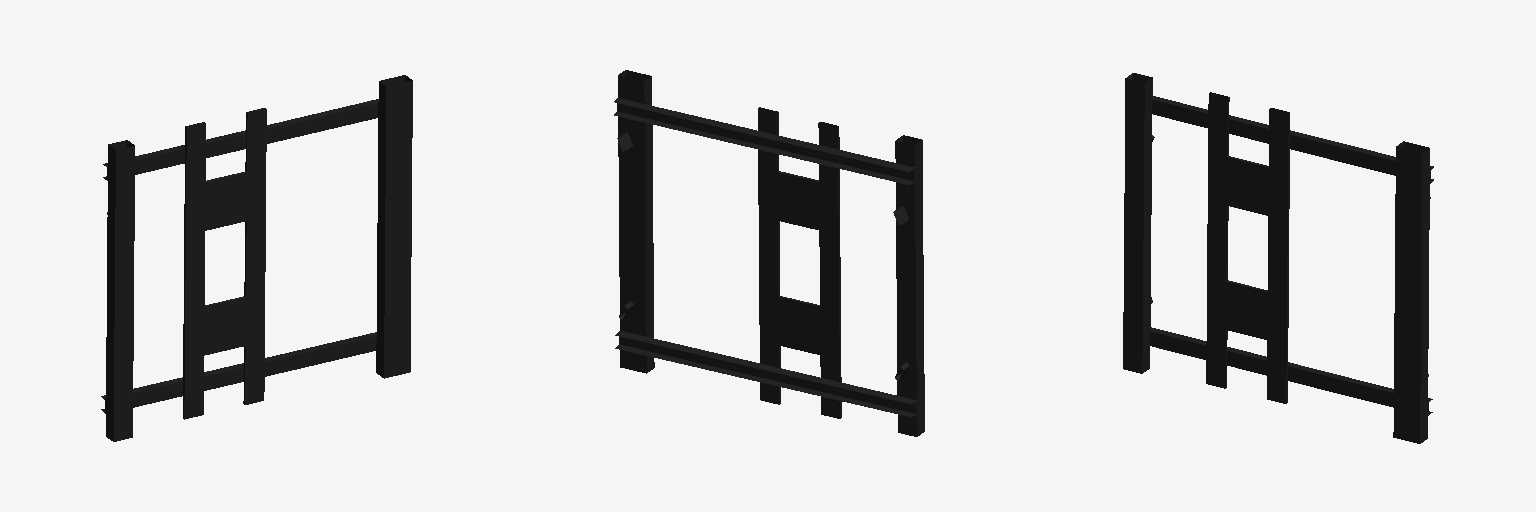
File: under_frame.obj
The picture shows the model from 3 angles: view 1: azimuth 30°, elevation 25°; view 2: azimuth 150°, elevation 25°; view 3: azimuth 330°, elevation 25°; orthographic projection.
Visible parts, largest first — view 1: frame_obj6.001; view 2: frame_obj6.001; view 3: frame_obj6.001.
Boxes of the visible parts, <box> form: frame_obj6.001: <box>101,75,412,441</box>; frame_obj6.001: <box>614,70,924,436</box>; frame_obj6.001: <box>1123,73,1433,443</box>.
Bounding box in the file's own units: 0.3967 × 0.3724 × 0.0333.